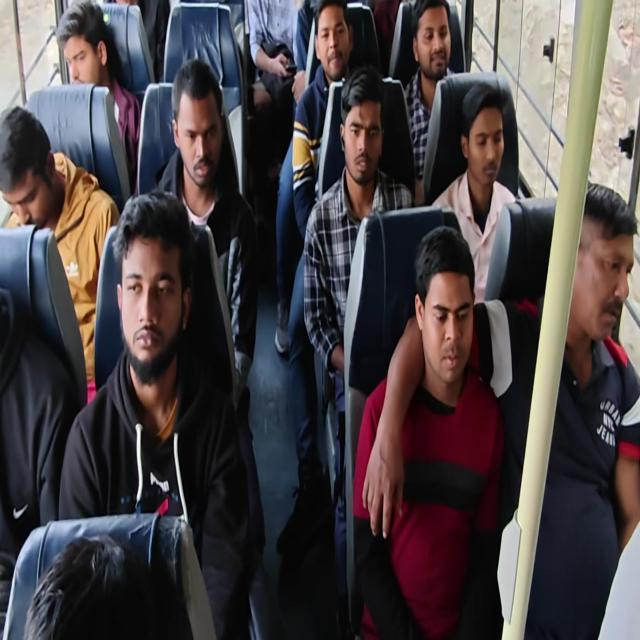person: (1, 1, 638, 638), (363, 182, 639, 638), (58, 188, 252, 638), (352, 224, 505, 638), (302, 64, 414, 626), (152, 58, 264, 556), (0, 104, 121, 403), (274, 0, 354, 355), (430, 82, 517, 305), (23, 532, 193, 639), (55, 0, 141, 195), (402, 0, 456, 205), (246, 0, 301, 118)
